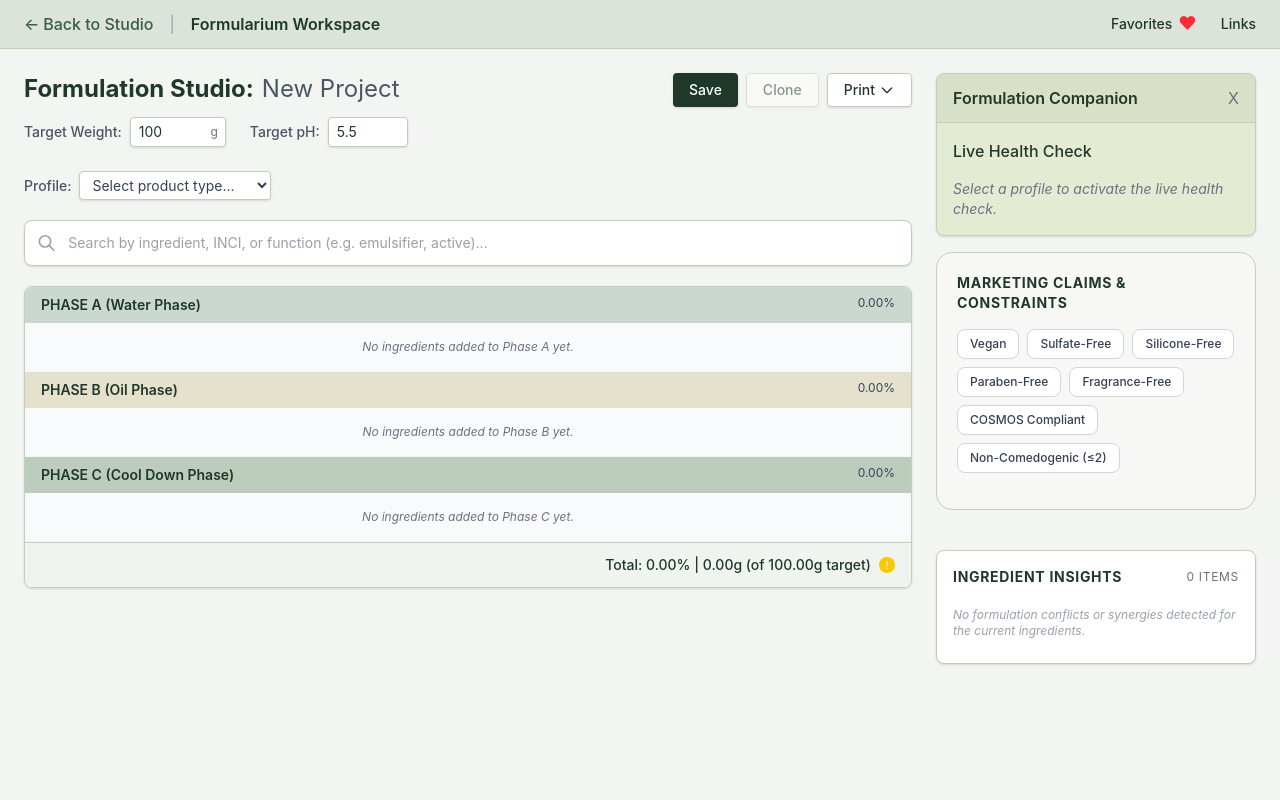
Test: FormulationEditor Profile Selector › fetches validation data successfully when a profile is selected
Select "O/W Lotion or Cream" in the dropdown labelled "Profile:" at (176, 186), box [80,171,272,200]
Wait 500 ms
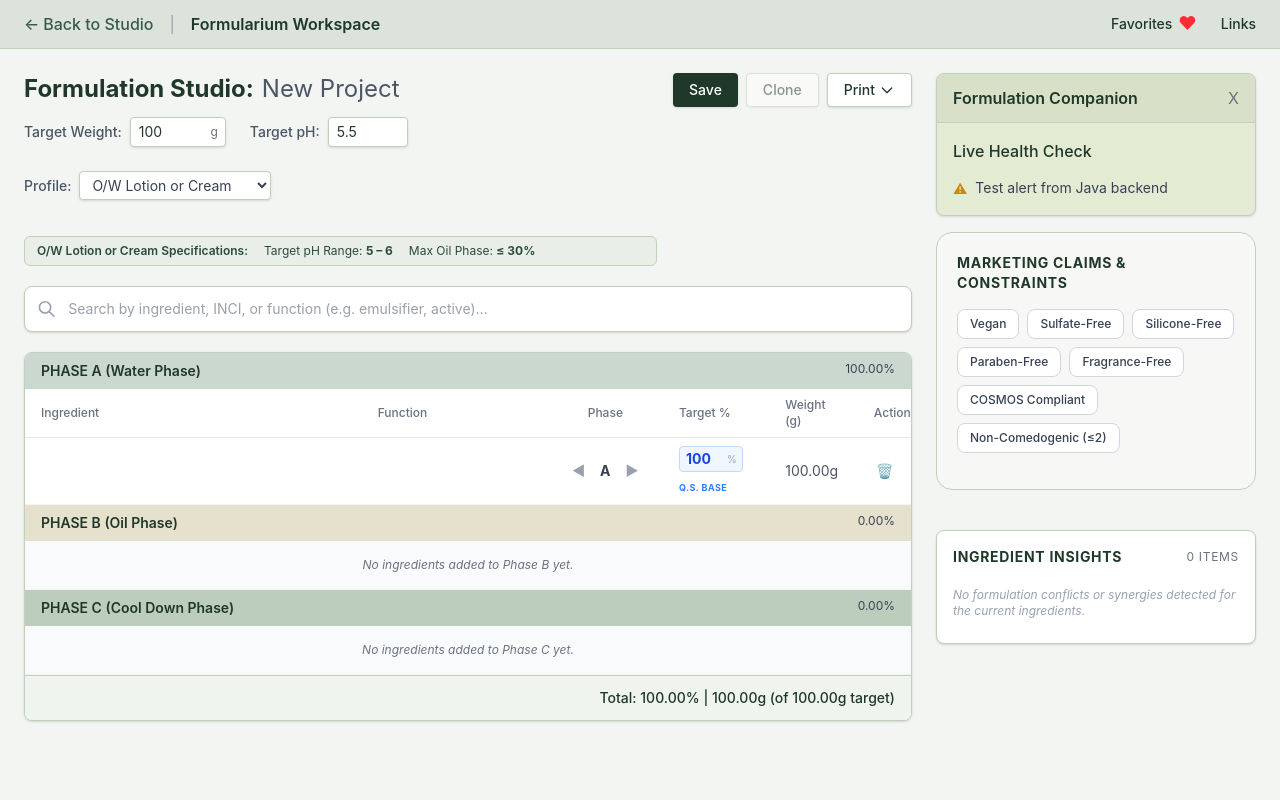
Now the text "Test alert from Java backend" is shown, box [975,179,1168,196]
